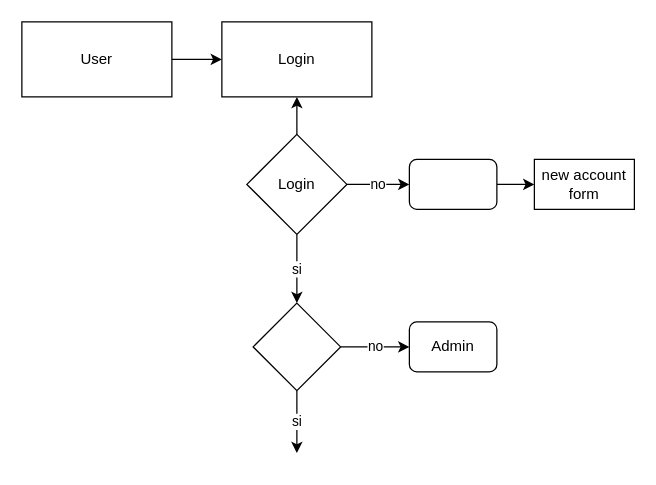
This 656x485 diagram has some shape labels left out. Each missing label, with the centre of its shape:
"clients" belongs at point 296,346.
"Sign up" belongs at point 452,183.
